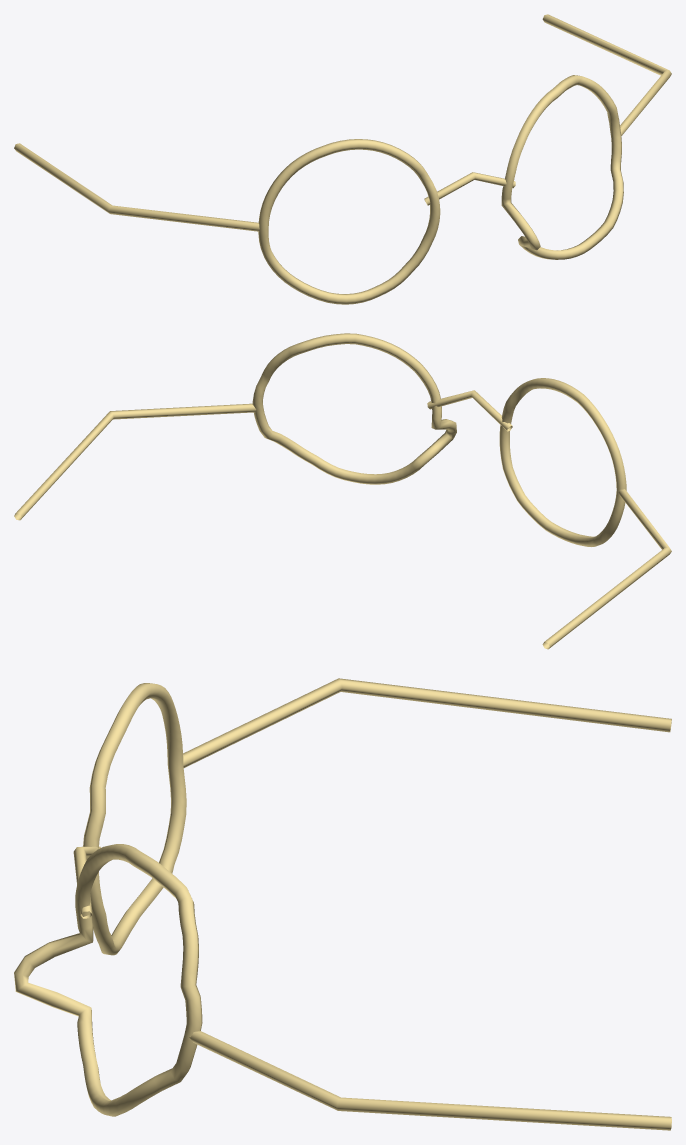
The model's file is glasses_round_chick_tailored.glb.
3 renders of one model, top to bottom at view 1: azimuth 30°, elevation 25°; view 2: azimuth 150°, elevation 25°; view 3: azimuth 270°, elevation 25°, orthographic. The views are drawn at different scales.
Visible parts, largest first — view 1: Montura.020, Montura.021, Patilla curva.020, Patilla curva.021, Puente nasal.010; view 2: Montura.021, Montura.020, Patilla curva.021, Patilla curva.020, Puente nasal.010; view 3: Montura.021, Montura.020, Patilla curva.020, Patilla curva.021.
Part boxes in pixels (x1,y1,x2,y2): Montura.020: (258, 139, 440, 304); Montura.021: (501, 75, 623, 259); Patilla curva.020: (14, 143, 259, 231); Patilla curva.021: (542, 14, 671, 136); Puente nasal.010: (424, 172, 515, 205); Montura.021: (252, 333, 456, 484); Montura.020: (499, 378, 626, 546); Patilla curva.021: (14, 403, 256, 520); Patilla curva.020: (542, 489, 671, 649); Puente nasal.010: (427, 390, 512, 431); Montura.021: (14, 844, 202, 1116); Montura.020: (83, 683, 186, 955); Patilla curva.020: (183, 678, 671, 767); Patilla curva.021: (189, 1031, 671, 1130).
Size of the model in its own units: 0.7273 by 0.1974 by 0.4764.
